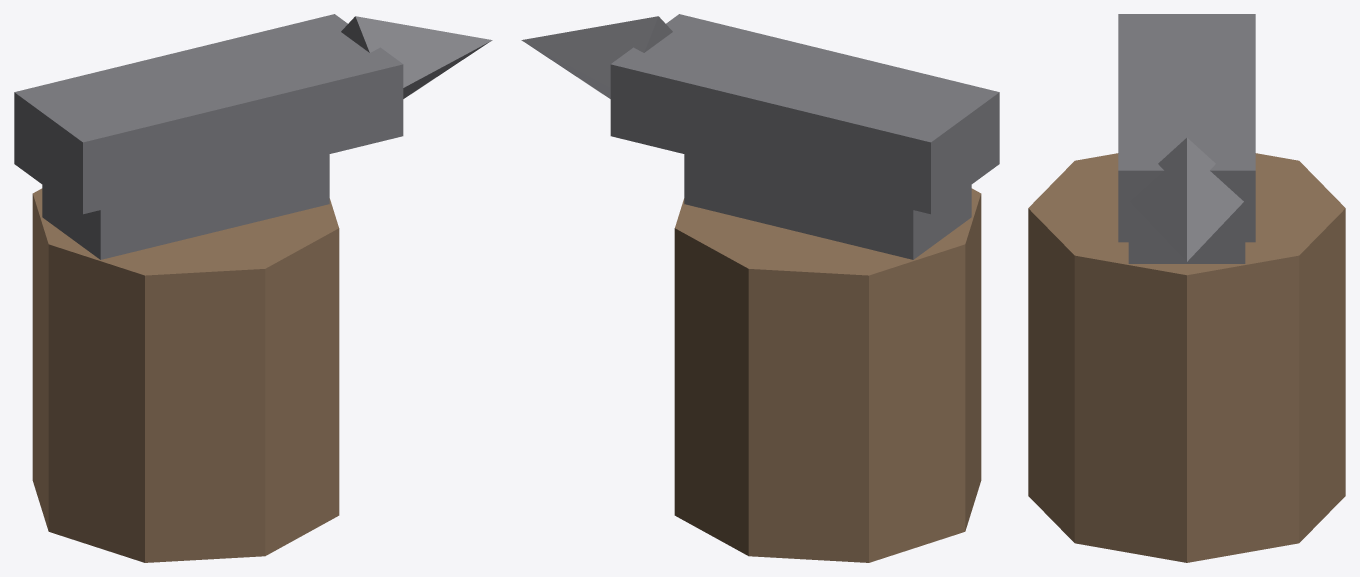
The model's file is anvil.glb.
The picture shows the model from 3 angles, left to right: view 1: azimuth 30°, elevation 25°; view 2: azimuth 150°, elevation 25°; view 3: azimuth 270°, elevation 25°; orthographic projection.
Parts seen in each view (by area): view 1: anvil; view 2: anvil; view 3: anvil.
Boxes of the visible parts, box(x1,y1,x2,y2) form: anvil: box(14, 14, 492, 562); anvil: box(521, 14, 999, 562); anvil: box(1028, 14, 1345, 562).
Bounding box in the file's own units: 0.97 × 0.92 × 0.6001.
